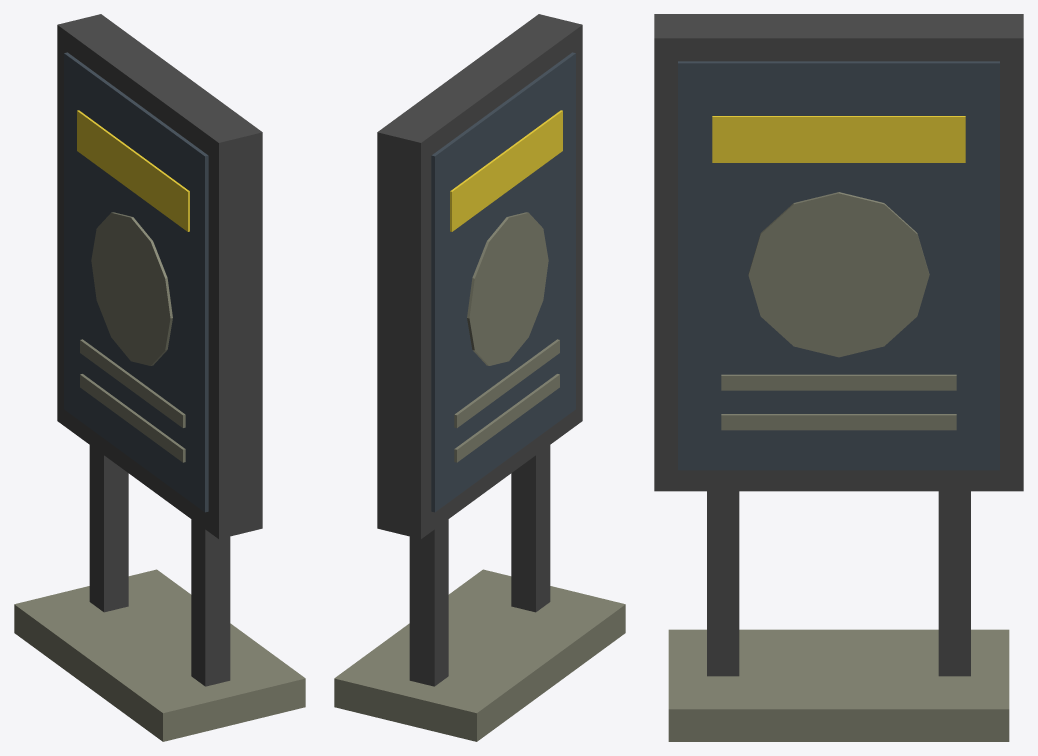
The model's file is advert.fbx.
The picture shows the model from 3 angles, left to right: view 1: azimuth 30°, elevation 25°; view 2: azimuth 150°, elevation 25°; view 3: azimuth 270°, elevation 25°; orthographic projection. The views are drawn at different scales.
Visible parts, largest first — view 1: advert; view 2: advert; view 3: advert.
Boxes of the visible parts, x1=… form: advert: x1=14, y1=14, x2=305, y2=741; advert: x1=334, y1=14, x2=625, y2=741; advert: x1=654, y1=14, x2=1023, y2=741.
Bounding box in the file's own units: 0.52 × 2.06 × 1.02.
